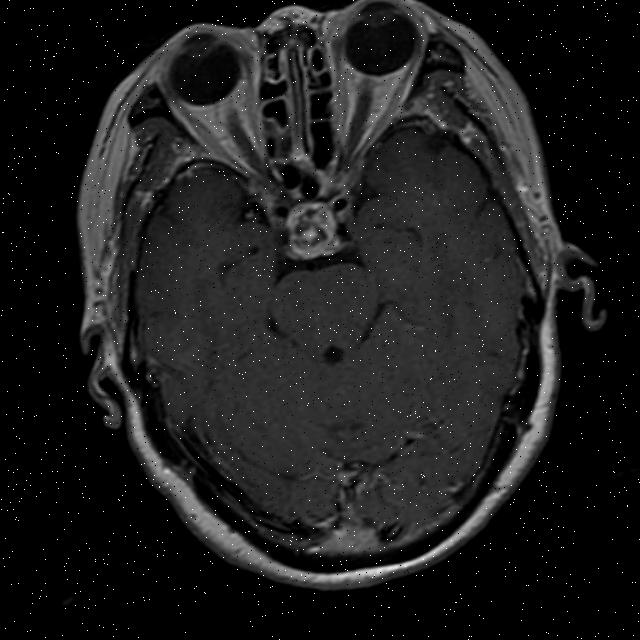Pituitary: (283, 197, 341, 264)
